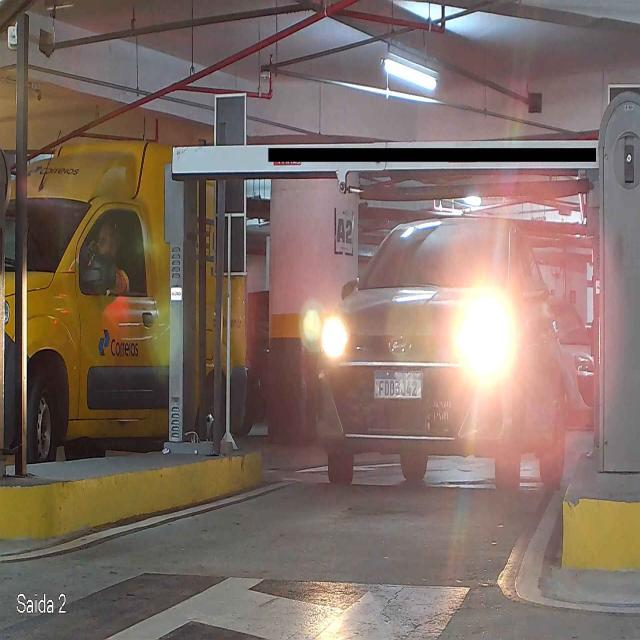mercosul_plate: (372, 368, 423, 400)
